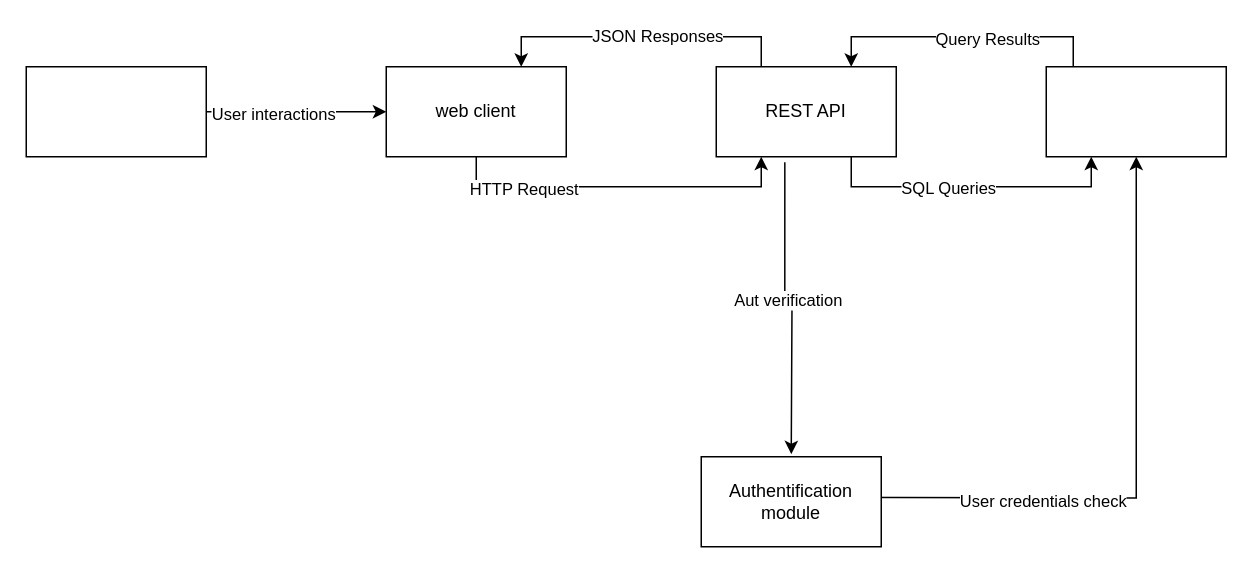
Some shapes in this 1253 by 573 pixel diagram are drawn without their labels. Each missing label, with the box of its shape:
Database: (1045, 65, 1226, 157)
user: (25, 65, 206, 157)
